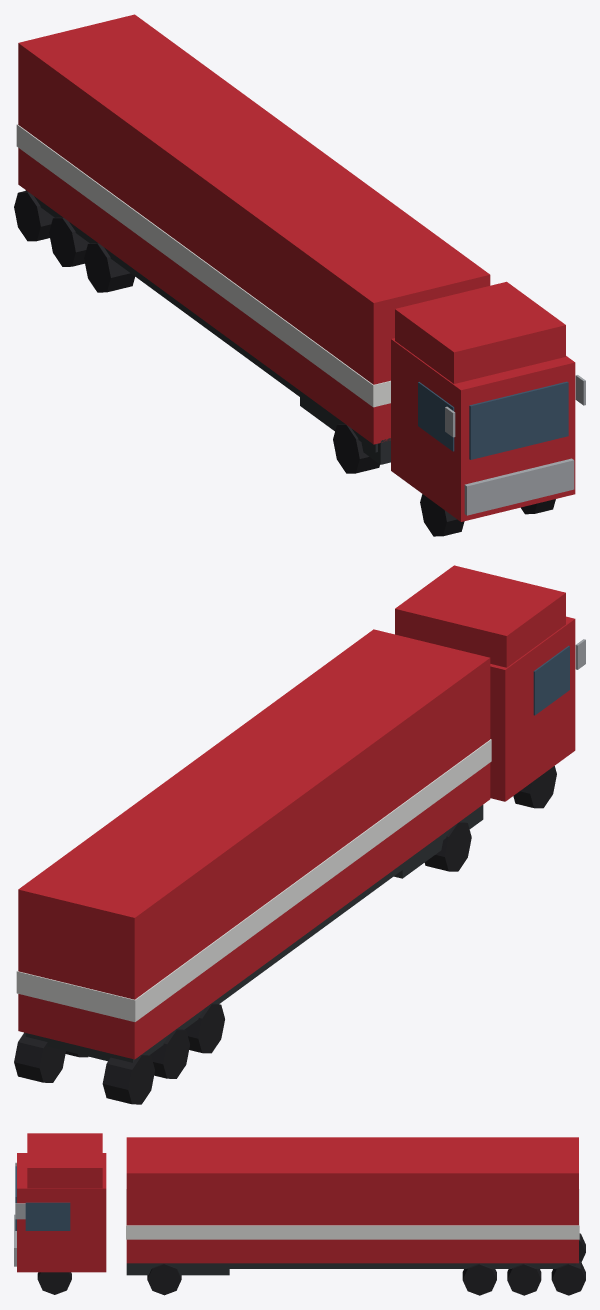
File: caminhao_1.glb
3 views of the same model, one above another, from view 1: azimuth 30°, elevation 25°; view 2: azimuth 150°, elevation 25°; view 3: azimuth 270°, elevation 25° (orthographic). The views are drawn at different scales.
Parts seen in each view (by area): view 1: cor, br, pre, vi, aco, esc; view 2: cor, br, pre, esc, vi; view 3: cor, br, pre, esc, vi, aco.
Part boxes in pixels (x1,y1,x2,y2): cor: (18, 14, 575, 521); br: (16, 124, 390, 407); pre: (14, 191, 555, 536); vi: (418, 381, 568, 459); aco: (445, 375, 585, 515); esc: (25, 190, 390, 464); cor: (18, 565, 575, 1059); br: (16, 739, 491, 1021); pre: (14, 766, 556, 1104); esc: (25, 805, 483, 1062); vi: (533, 645, 569, 715); cor: (17, 1133, 578, 1272); br: (126, 1189, 579, 1239); pre: (37, 1233, 585, 1295); esc: (126, 1263, 575, 1275); vi: (15, 1166, 70, 1230); aco: (14, 1162, 25, 1266).
Bounding box in the file's own units: 2.85 × 4.1 × 16.69.
